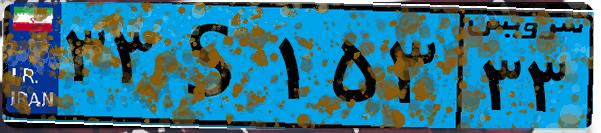1: (270, 28, 330, 110)
3: (385, 28, 445, 110), (57, 26, 110, 100), (475, 38, 525, 113), (525, 38, 570, 115), (110, 28, 158, 98)
5: (330, 28, 385, 110)
S: (158, 12, 270, 120)
